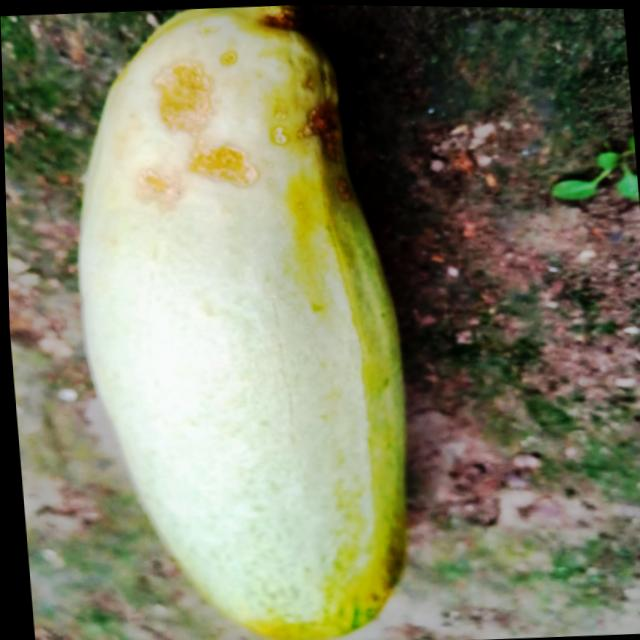Belly-Rot: (122, 42, 260, 217), (258, 58, 354, 208)
